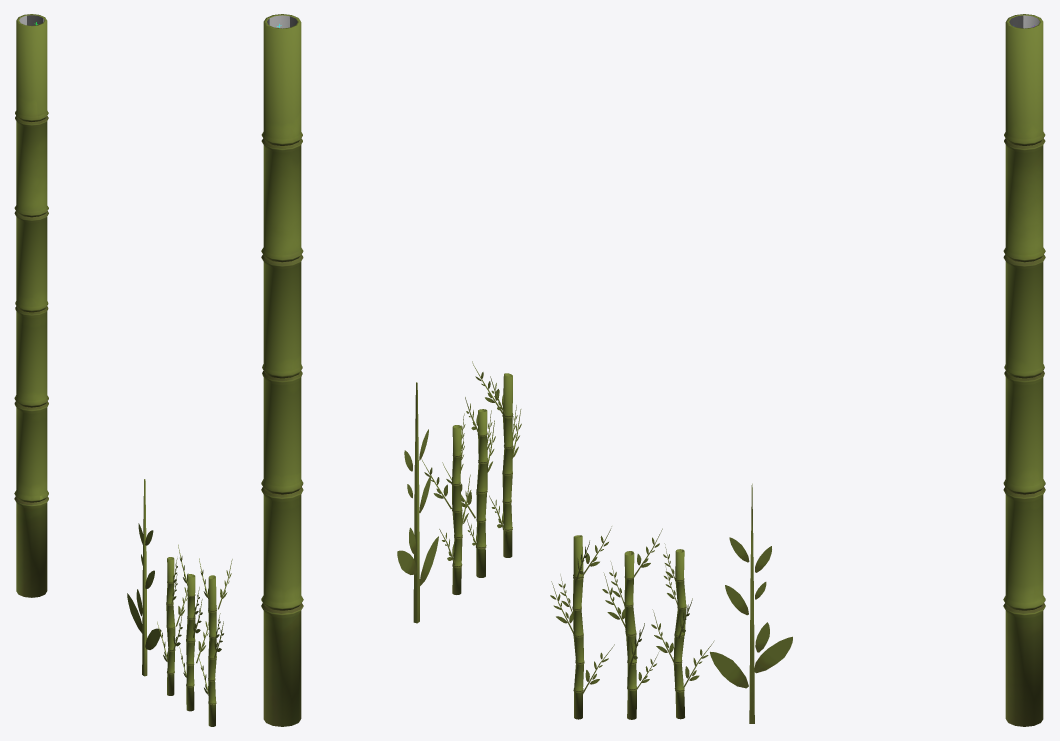
File: bamboo.glb
The picture shows the model from 3 angles, left to right: view 1: azimuth 30°, elevation 25°; view 2: azimuth 150°, elevation 25°; view 3: azimuth 270°, elevation 25°; orthographic projection. The views are drawn at different scales.
Visible parts, largest first — view 1: Cylinder.003, bamboo3, leafs, bamboo1, bamboo2; view 2: Cylinder.003, leafs, bamboo3, bamboo1, bamboo2; view 3: Cylinder.003, leafs, bamboo3, bamboo1, bamboo2.
Boxes of the visible parts, x1,y1,x2,y2 form: Cylinder.003: (14, 14, 48, 597); bamboo3: (197, 558, 232, 726); leafs: (127, 479, 161, 676); bamboo1: (178, 544, 208, 711); bamboo2: (157, 557, 187, 695); Cylinder.003: (261, 14, 303, 726); leafs: (397, 382, 438, 623); bamboo3: (472, 361, 521, 557); bamboo1: (442, 397, 495, 577); bamboo2: (421, 413, 471, 594); Cylinder.003: (1003, 14, 1045, 726); leafs: (710, 483, 792, 723); bamboo3: (550, 526, 614, 719); bamboo1: (602, 528, 662, 719); bamboo2: (651, 543, 714, 719).
Size of the model in its own units: 0.4227 by 5.85 by 3.75.
5 materials, 5 textured.
